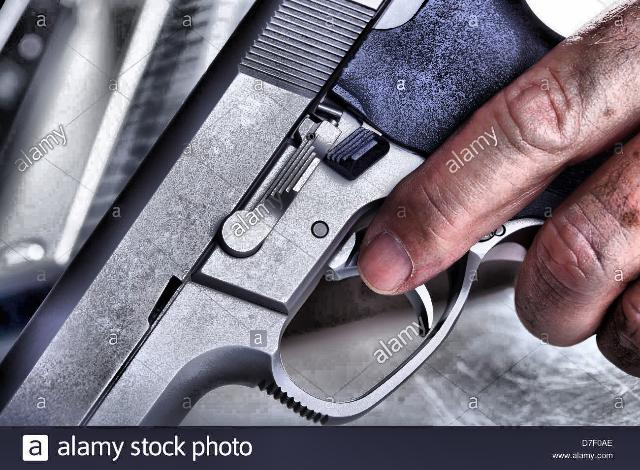pistol: (1, 0, 622, 426)
